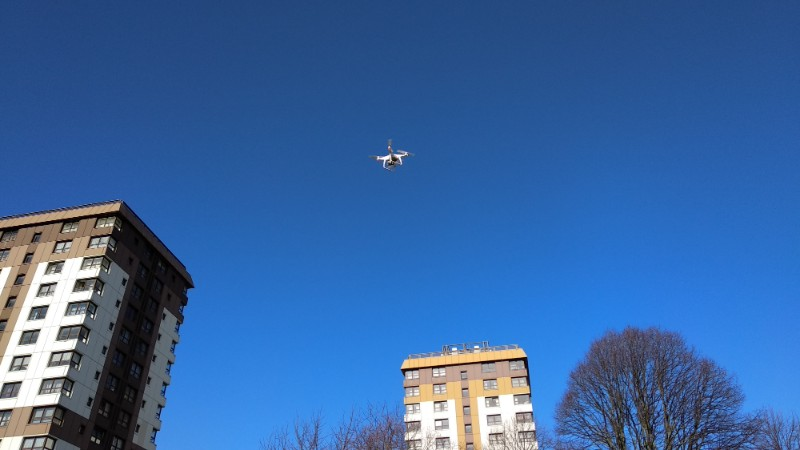drone: (367, 137, 415, 173)
